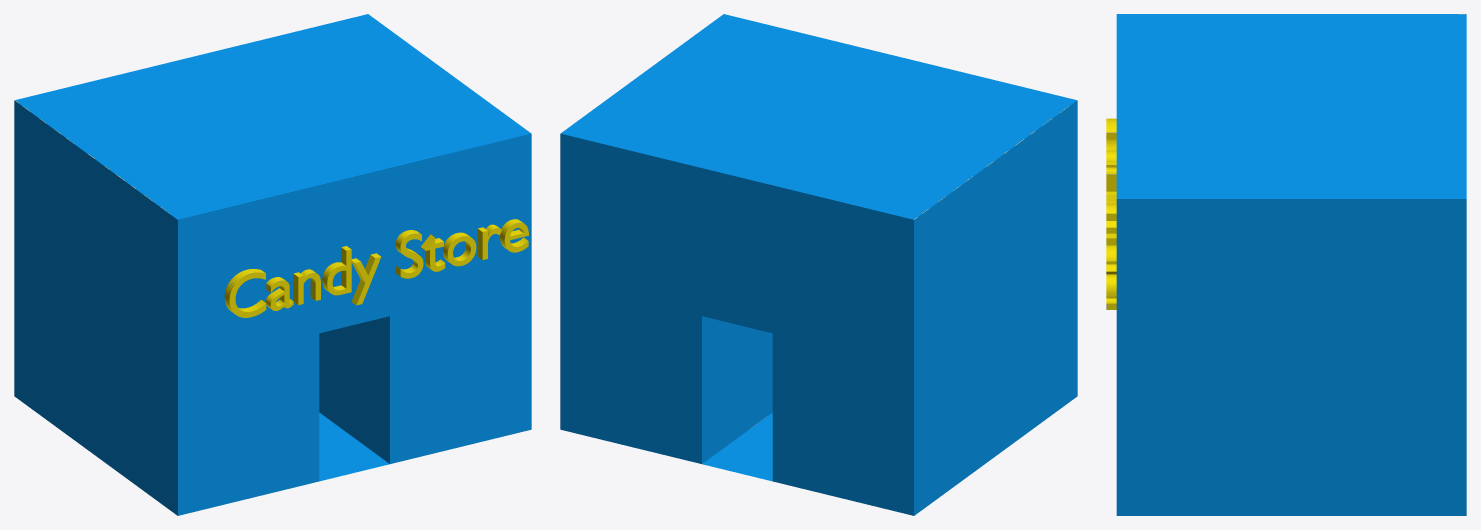
File: Store_DoorStore.fbx
3 renders of one model, left to right at view 1: azimuth 30°, elevation 25°; view 2: azimuth 150°, elevation 25°; view 3: azimuth 270°, elevation 25°, orthographic. The views are drawn at different scales.
Visible parts, largest first — view 1: Store.001; view 2: Store.001; view 3: Store.001.
Part boxes in pixels (x1,y1,x2,y2): Store.001: [14, 14, 531, 515]; Store.001: [560, 14, 1077, 515]; Store.001: [1106, 14, 1466, 515].
Bounding box in the file's own units: 5 × 4 × 4.12.
Materials: 1 (1 with a texture image).
